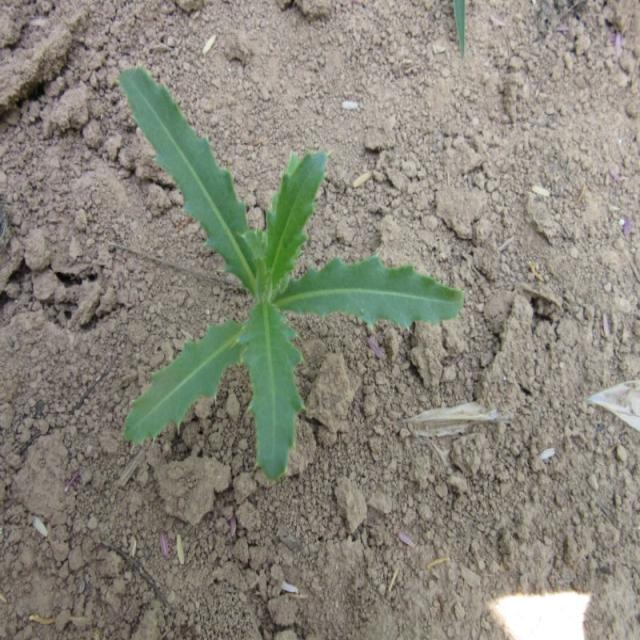field_thistle: (106, 70, 457, 487)
